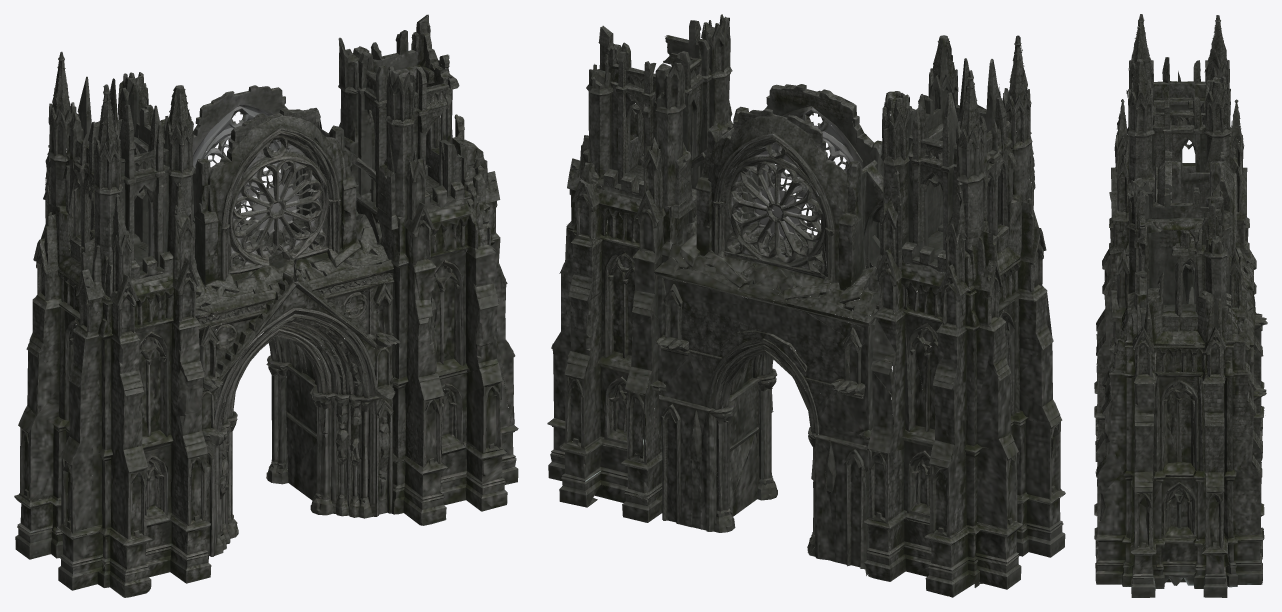
The model's file is gate.glb.
The picture shows the model from 3 angles, left to right: view 1: azimuth 30°, elevation 25°; view 2: azimuth 150°, elevation 25°; view 3: azimuth 270°, elevation 25°; orthographic projection. The views are drawn at different scales.
Parts seen in each view (by area): view 1: Mesh_0; view 2: Mesh_0; view 3: Mesh_0.
Boxes of the visible parts, x1,y1,x2,y2 form: Mesh_0: [14, 14, 518, 597]; Mesh_0: [547, 14, 1065, 597]; Mesh_0: [1094, 14, 1267, 597].
Bounding box in the file's own units: 17.1 × 18 × 6.77.
1 material, 1 textured.
